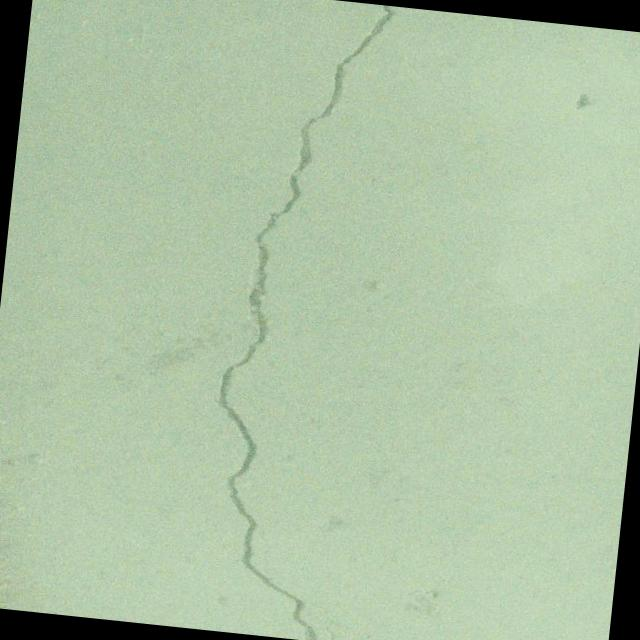crack: (187, 0, 402, 640), (149, 149, 272, 193)
